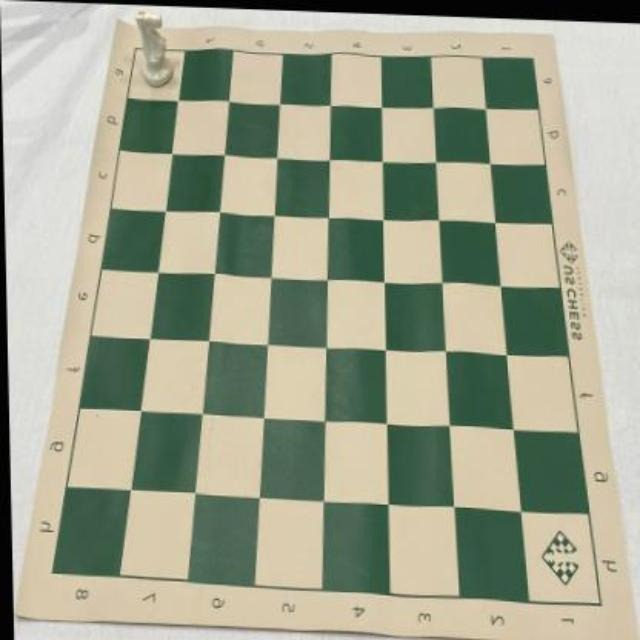white-knight: (134, 7, 175, 88)
